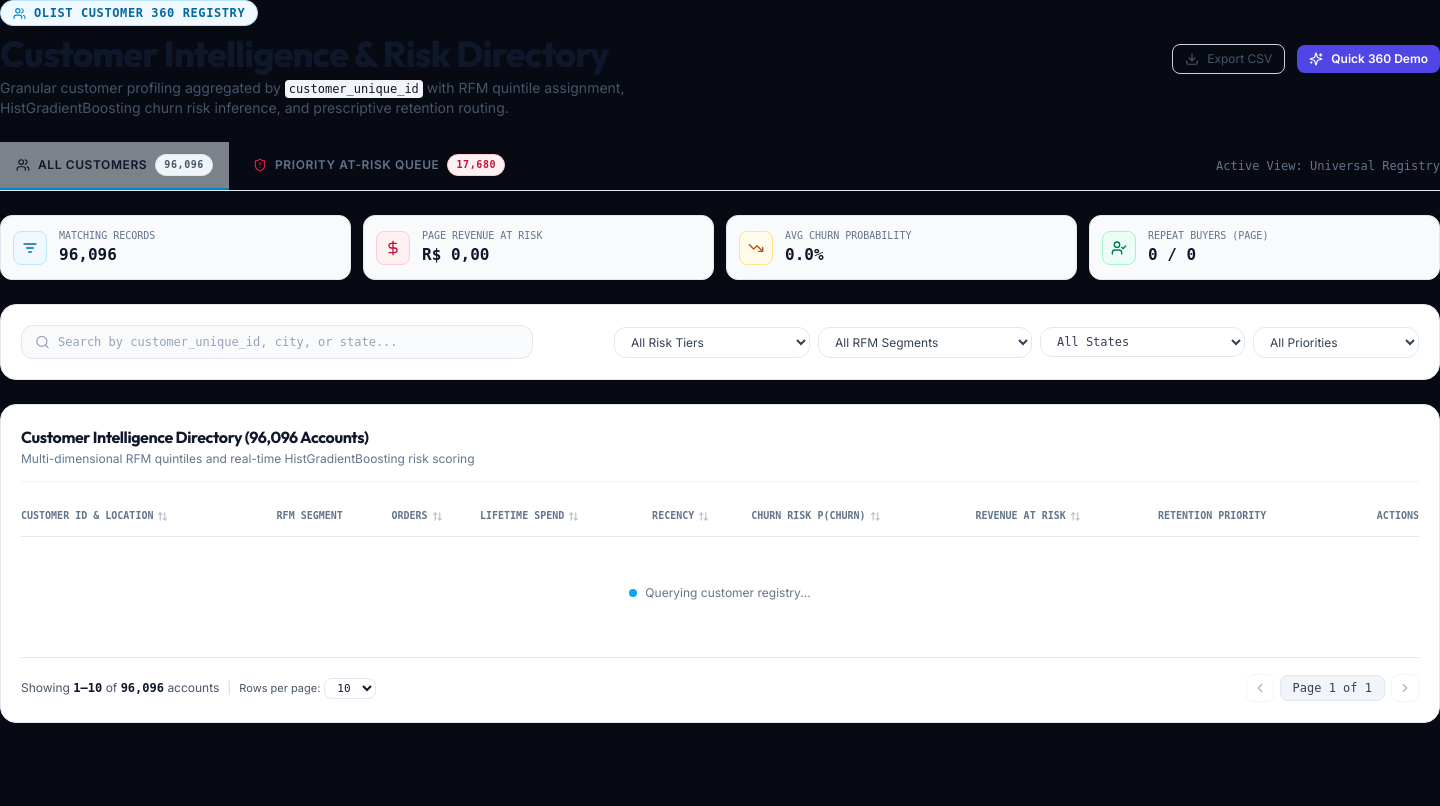
Test: CustomerIntelligenceView / CustomerDirectoryView Component › switches between All Customers and Priority At-Risk Queue tabs
Click the button "Priority At-Risk Queue 17,680": (379, 166) top-left (237, 142), bottom-right (521, 190)
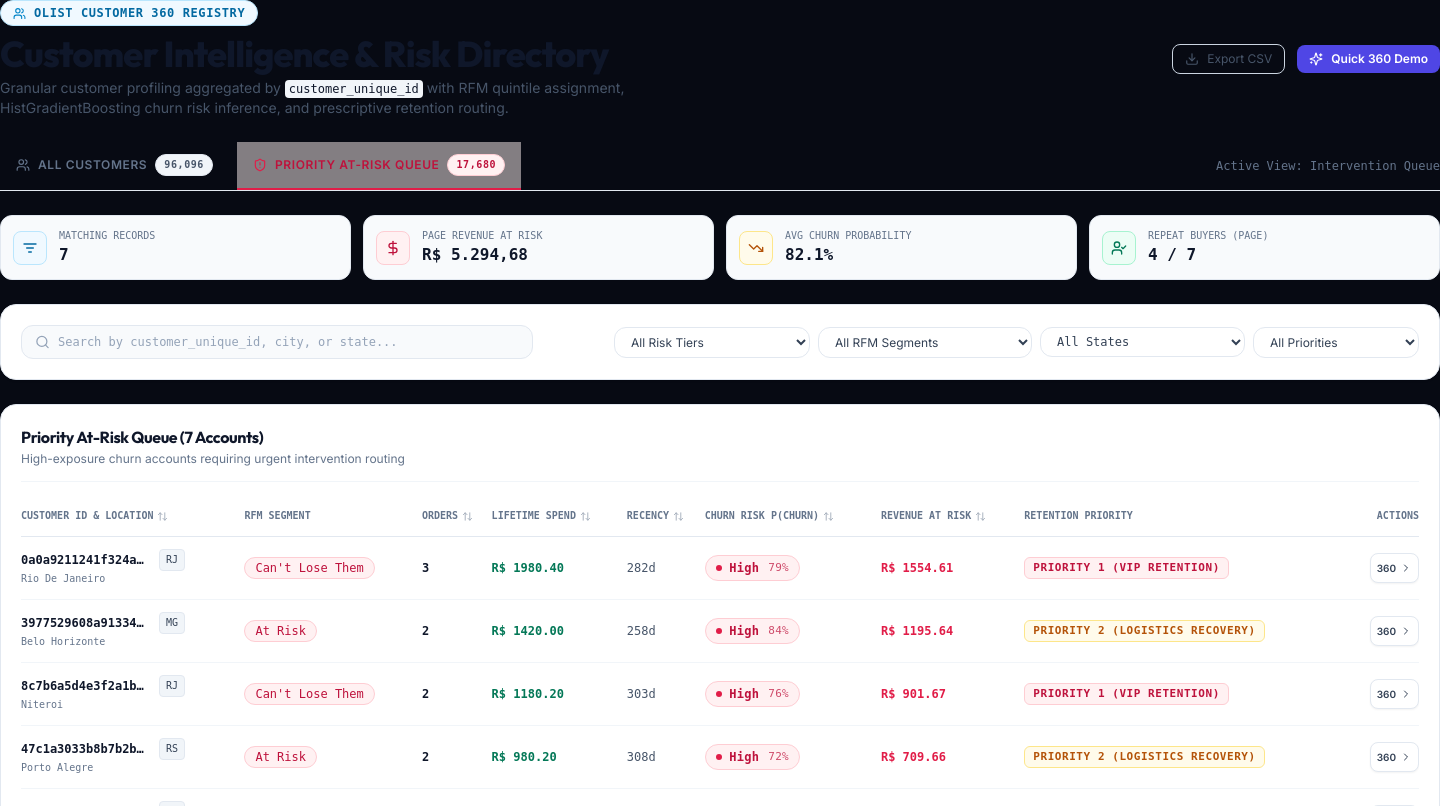
Result: the text "Active View: Intervention Queue" is shown at top-left (1216, 158), bottom-right (1439, 174)
Click the button "All Customers 96,096": (114, 166) top-left (0, 142), bottom-right (229, 190)
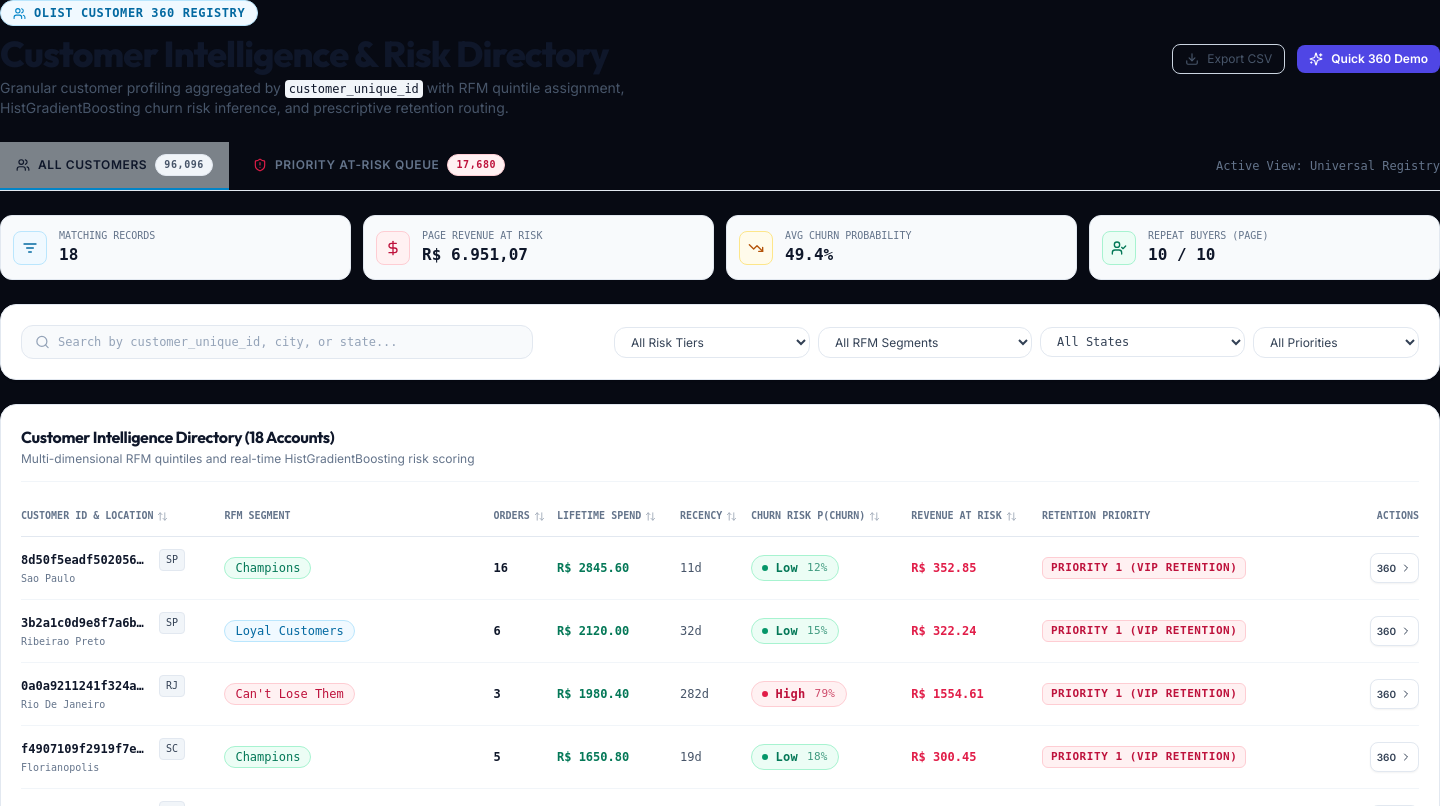
Result: the text "Active View: Universal Registry" is shown at top-left (1216, 158), bottom-right (1439, 174)
